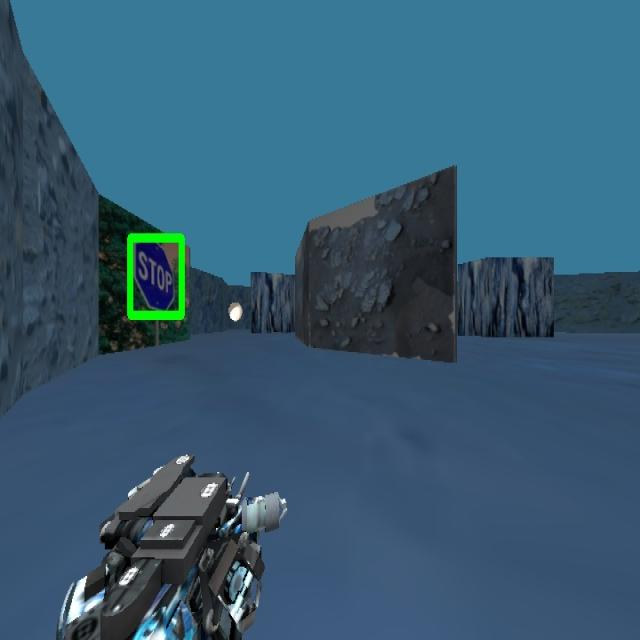Circle: (228, 301, 242, 323)
Stop_Sign: (125, 231, 186, 321)
